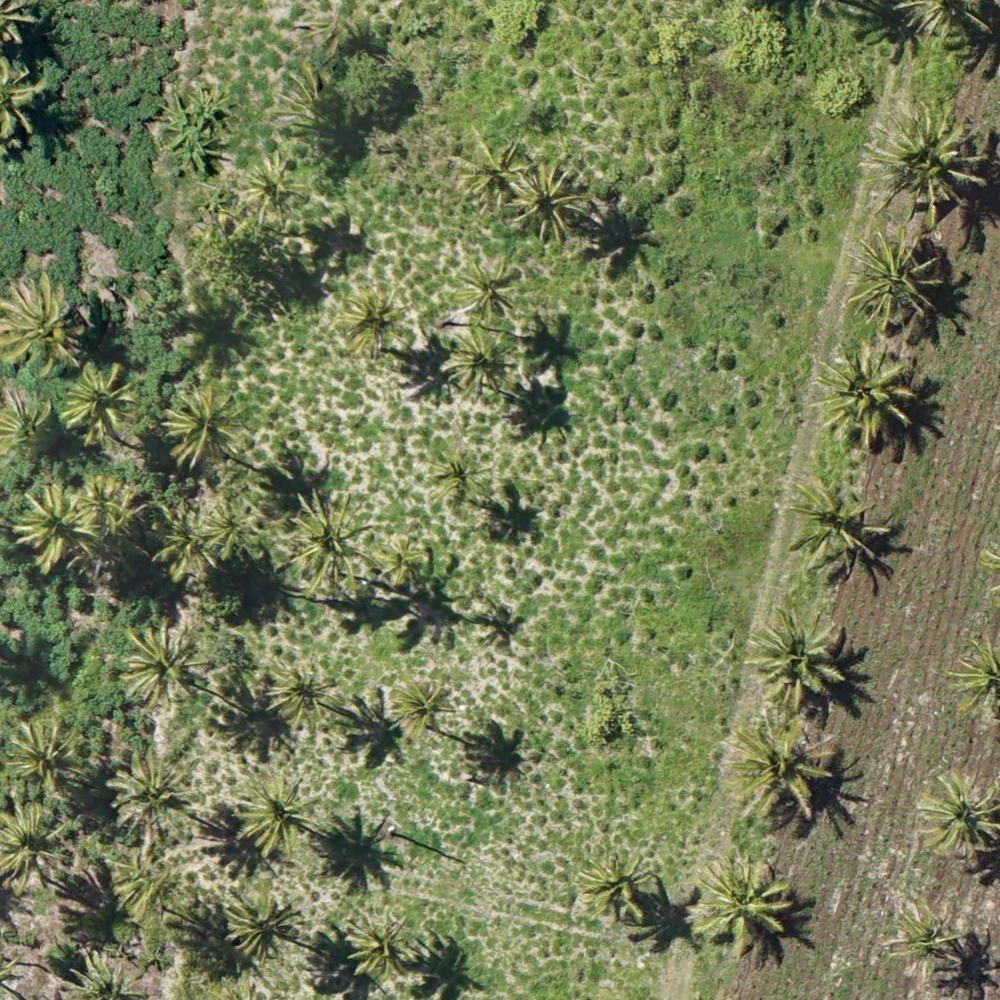Palm: (869, 107, 984, 217), (729, 715, 835, 817), (816, 342, 916, 443), (283, 489, 378, 592), (698, 856, 795, 952), (753, 608, 843, 701), (115, 622, 209, 709), (852, 232, 939, 325), (913, 769, 999, 858), (14, 486, 99, 574), (4, 279, 85, 371), (795, 477, 874, 563), (512, 158, 591, 243), (3, 798, 72, 891), (236, 775, 314, 857), (880, 897, 966, 971), (7, 715, 83, 796), (220, 884, 299, 961), (164, 386, 239, 467), (65, 361, 139, 442), (583, 849, 661, 925), (113, 749, 185, 830), (453, 132, 522, 208), (341, 282, 409, 355), (386, 669, 456, 739), (347, 908, 415, 980), (151, 507, 217, 580), (440, 329, 513, 395), (452, 257, 525, 323), (270, 657, 336, 725), (240, 157, 303, 224), (201, 493, 269, 555), (423, 442, 492, 498), (372, 530, 428, 586)
